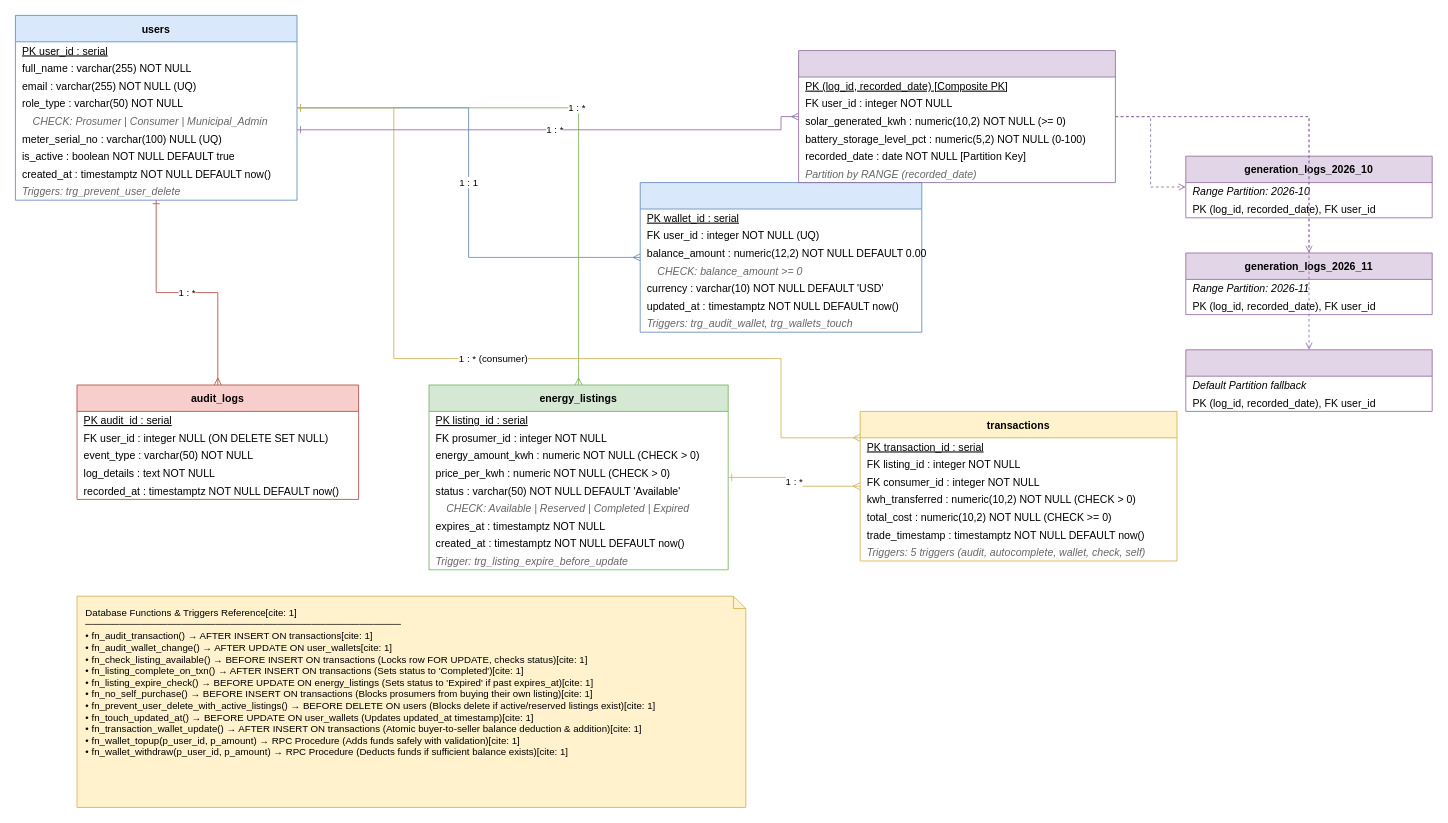
Some shapes in this 1448 by 823 pixel diagram are drawn without their labels. The shapes that lost their labels are listed below. From the top down, each one's box as (x1, y1, x2, y2) in pixels, then its label:
(798, 50, 1115, 183): generation_logs (PARTITIONED)
(639, 182, 922, 332): user_wallets
(1185, 349, 1432, 411): generation_logs_default
